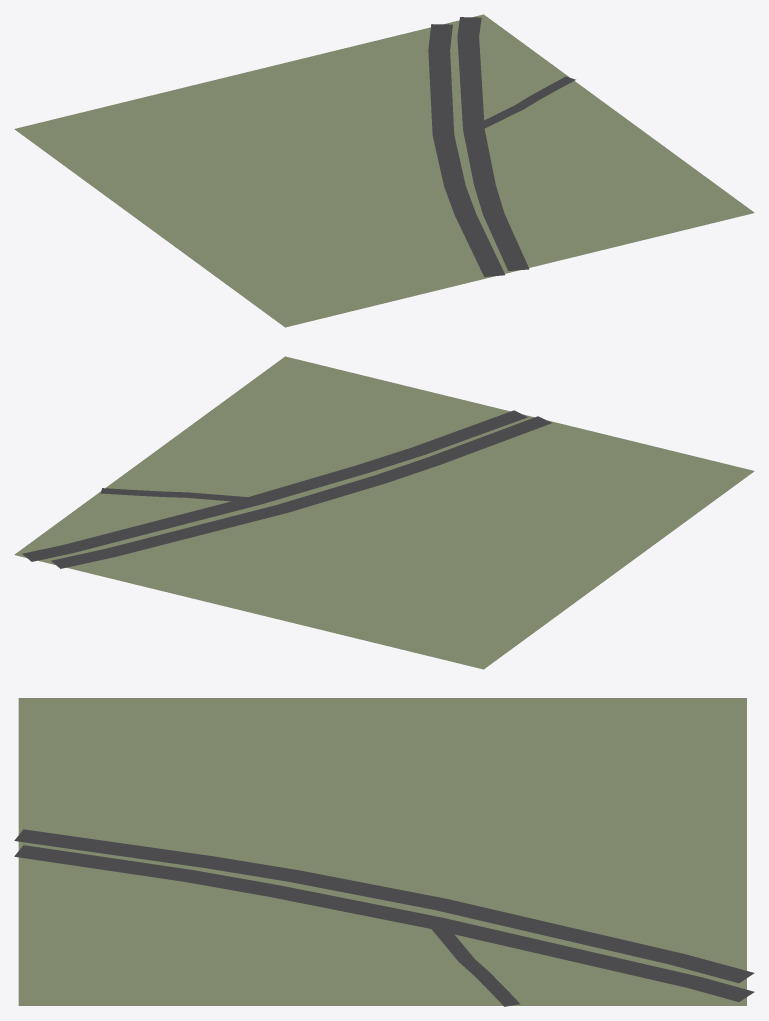
The picture shows the model from 3 angles, top to bottom: view 1: azimuth 30°, elevation 25°; view 2: azimuth 150°, elevation 25°; view 3: azimuth 270°, elevation 25°; orthographic projection. The views are drawn at different scales.
Parts seen in each view (by area): view 1: ground, road; view 2: ground, road; view 3: ground, road.
Boxes of the visible parts, x1,y1,x2,y2 form: ground: (14, 14, 754, 327); road: (428, 17, 575, 276); ground: (14, 356, 754, 669); road: (22, 410, 551, 568); ground: (18, 698, 746, 1005); road: (14, 829, 754, 1006).
Bounding box in the file's own units: 251 × 0.12 × 254.
